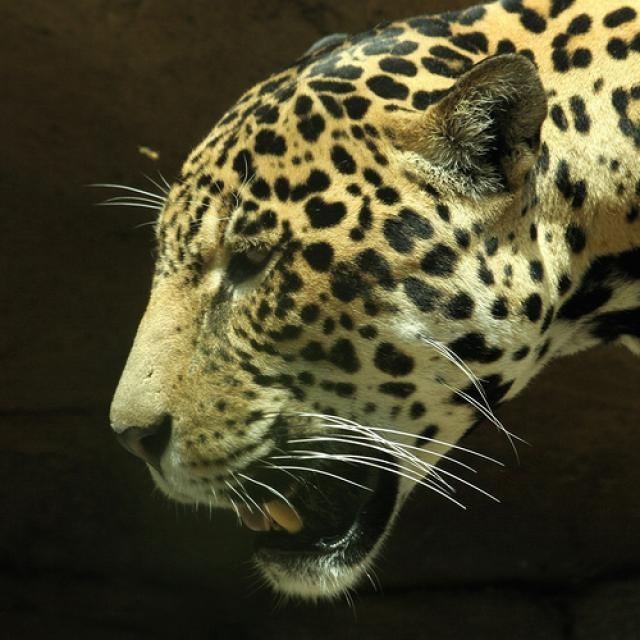Leopard: (104, 1, 636, 596)
